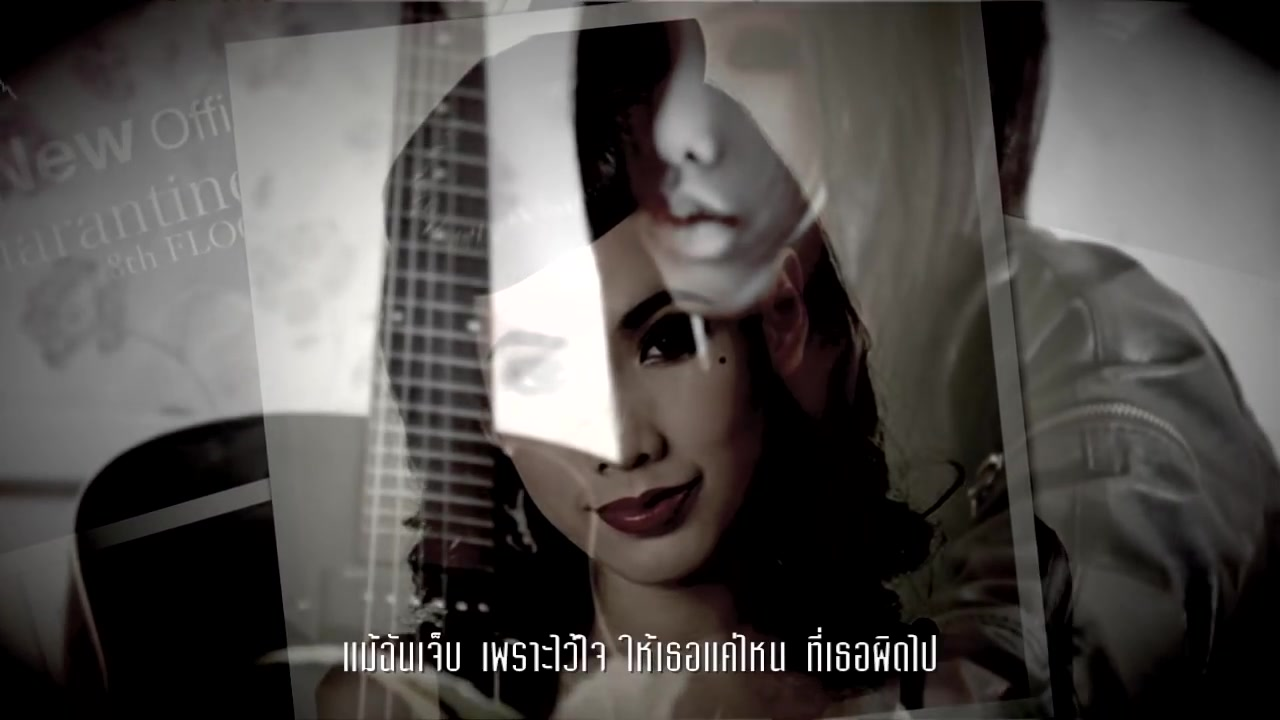text-label: (340, 626, 942, 680)
